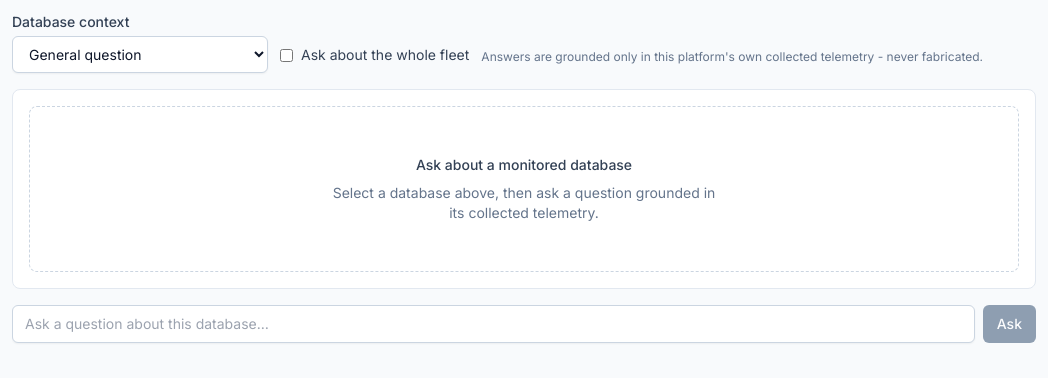
it: AiCopilotPage › shows a finding's freshness and flags it stale, with an inspectable evidence disclosure
The image size is (1048, 378).
Type "Who is blocking?" into the field with placeholder "Ask a question about this database…" at (493,324), box [12,305,975,343]
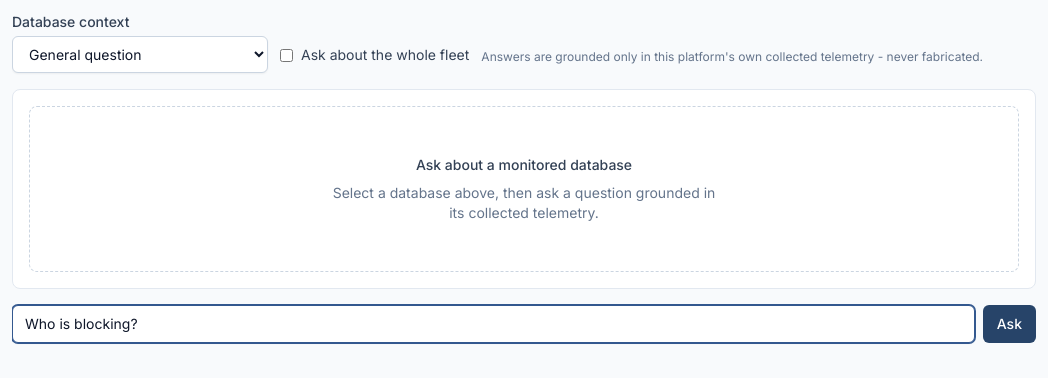
Click the button "Ask" at (1009,324), box [983,305,1036,343]
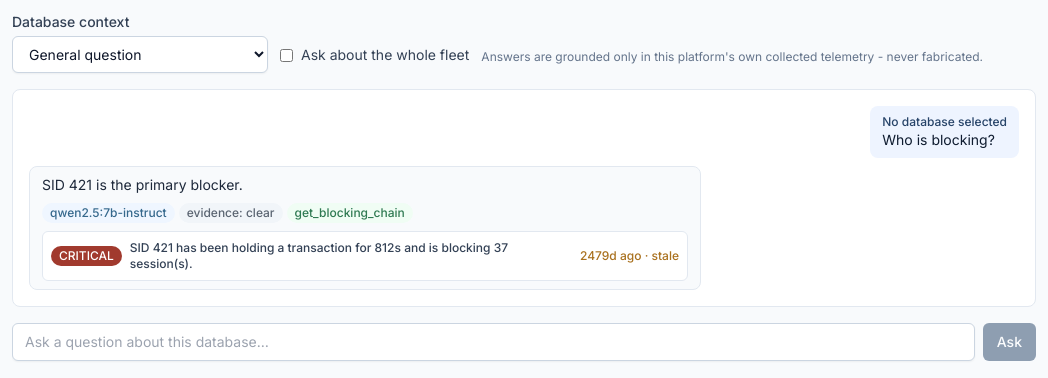
Expected: the text "SID 421 has been holding" is shown, [130,240,508,271]
Expected: the text "2479d ago · stale" is shown, [580,248,679,264]
